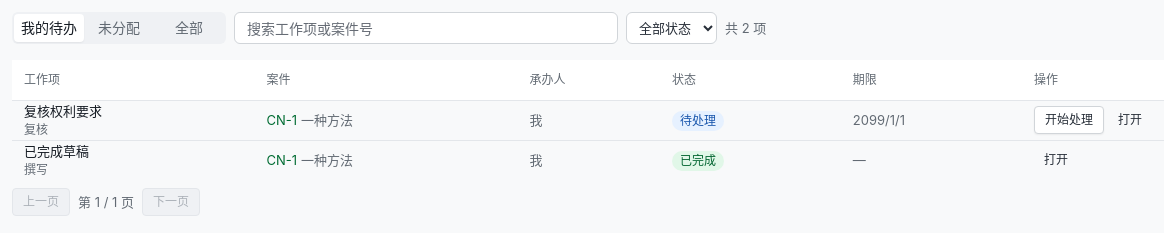
workbench queue（阶段6 服务端分页契约） › 状态筛选进入服务端 status 参数并重置到第一页
This screenshot has width=1164, height=233.
Expected: the row with test id "work-item-w2" is shown, [12,140,1163,180]
Select "待处理" in the dropdown named "工作项状态" at (672, 28), box [626,12,717,44]
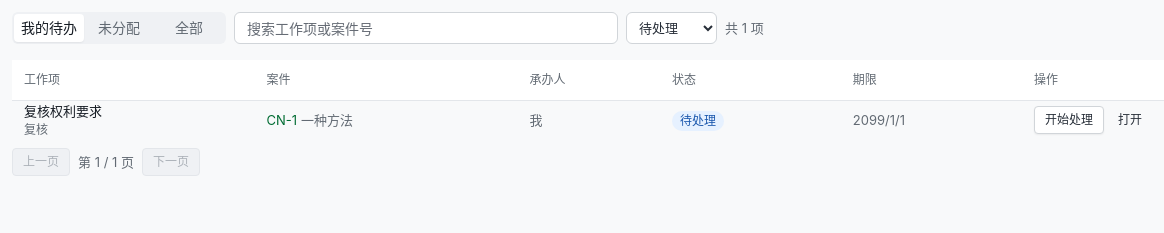
Expected: the row with test id "work-item-w1" is shown, [12,100,1163,140]
Expected: the row with test id "work-item-w2" is gone
